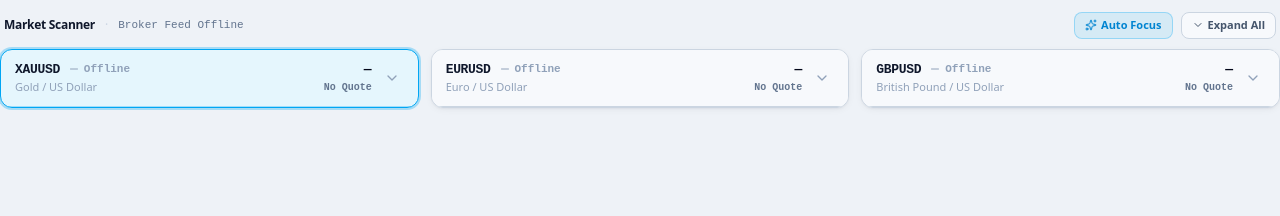
Scenario: WatchlistRail › starts with compact symbol rows and expands details on demand
Click the button named "Expand XAUUSD scanner card": (392, 78) [380,66,404,90]
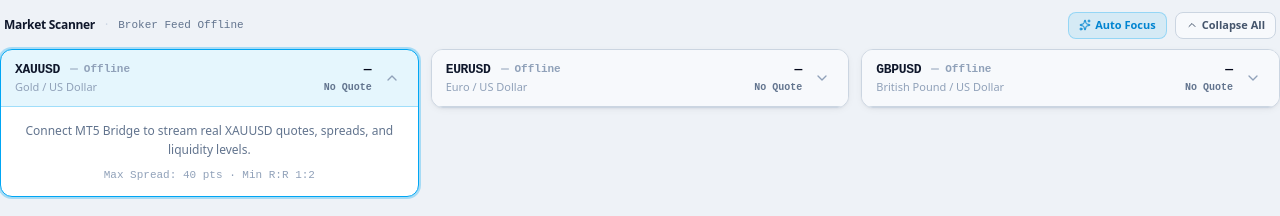
Check: the button named "Collapse XAUUSD scanner card" is expanded, box [380,66,404,90]
